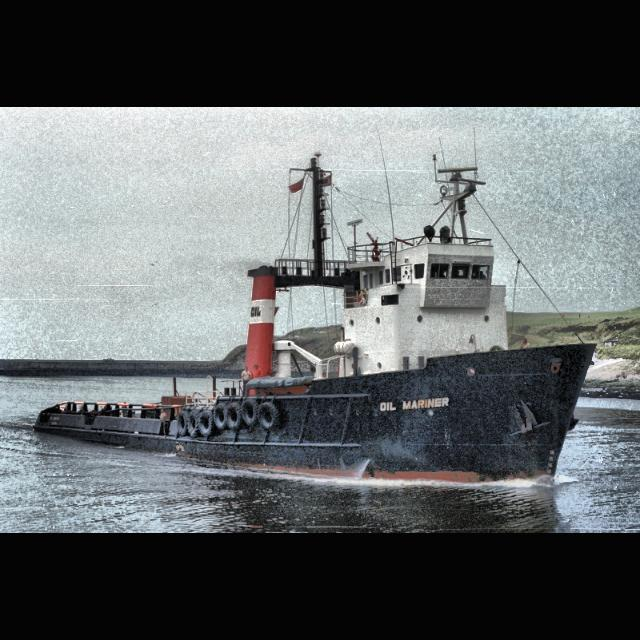anchor_handling_tug_supply: (30, 208, 598, 490)
